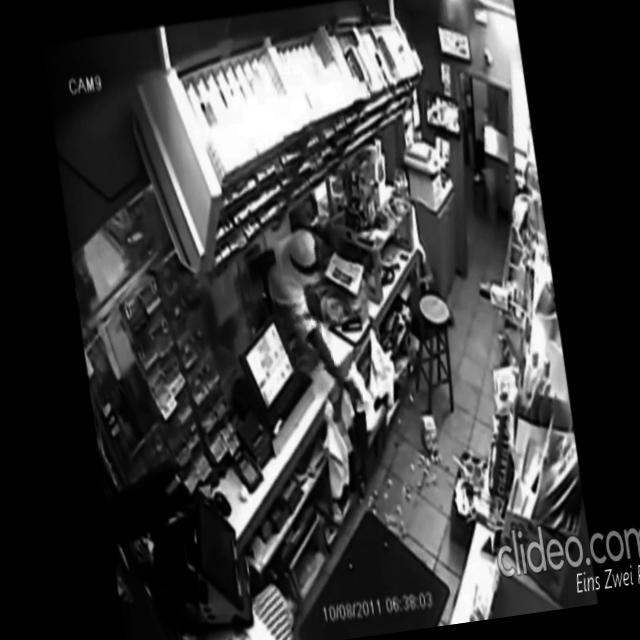gun: (344, 376, 364, 420)
person with a gun: (259, 219, 370, 428)
